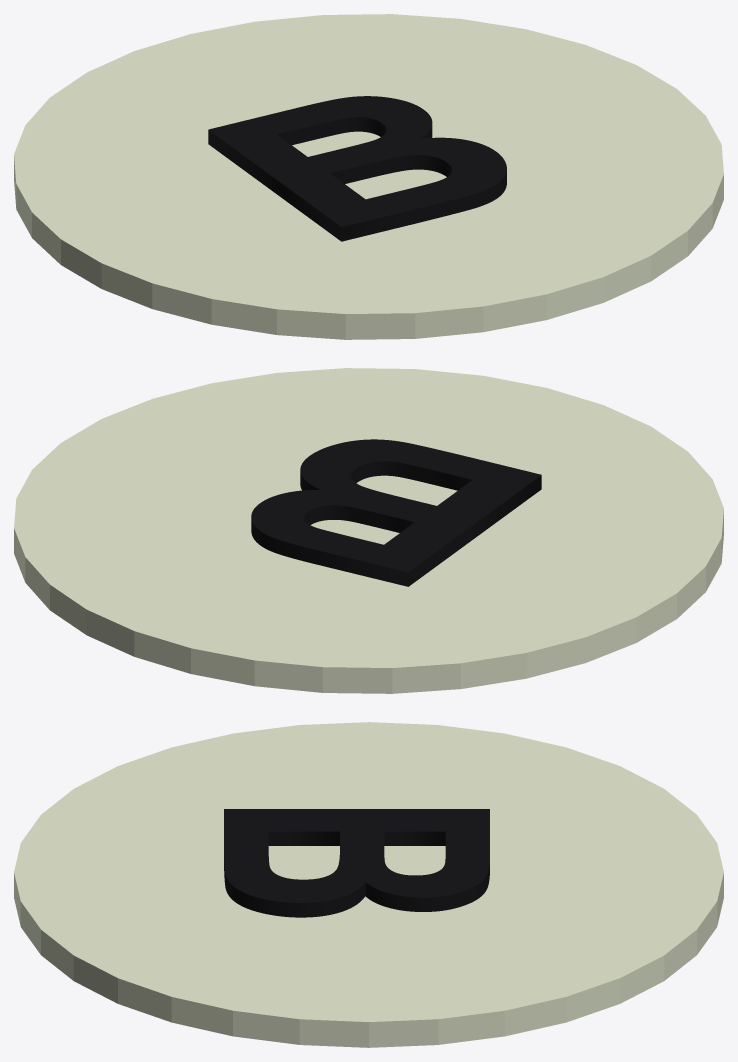
3 renders of one model, top to bottom at view 1: azimuth 30°, elevation 25°; view 2: azimuth 150°, elevation 25°; view 3: azimuth 270°, elevation 25°, orthographic.
Visible parts, largest first — view 1: 柱体, 文本; view 2: 柱体, 文本; view 3: 柱体, 文本.
Boxes of the visible parts, <box> form: 柱体: <box>14,14,723,339</box>; 文本: <box>208,96,506,241</box>; 柱体: <box>14,368,723,693</box>; 文本: <box>251,439,541,586</box>; 柱体: <box>14,722,723,1047</box>; 文本: <box>224,809,489,917</box>.
Bounding box in the file's own units: 200 × 12.5 × 200.
